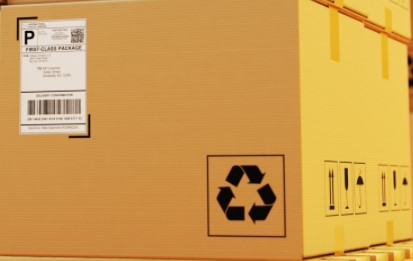stock: (1, 3, 413, 258)
